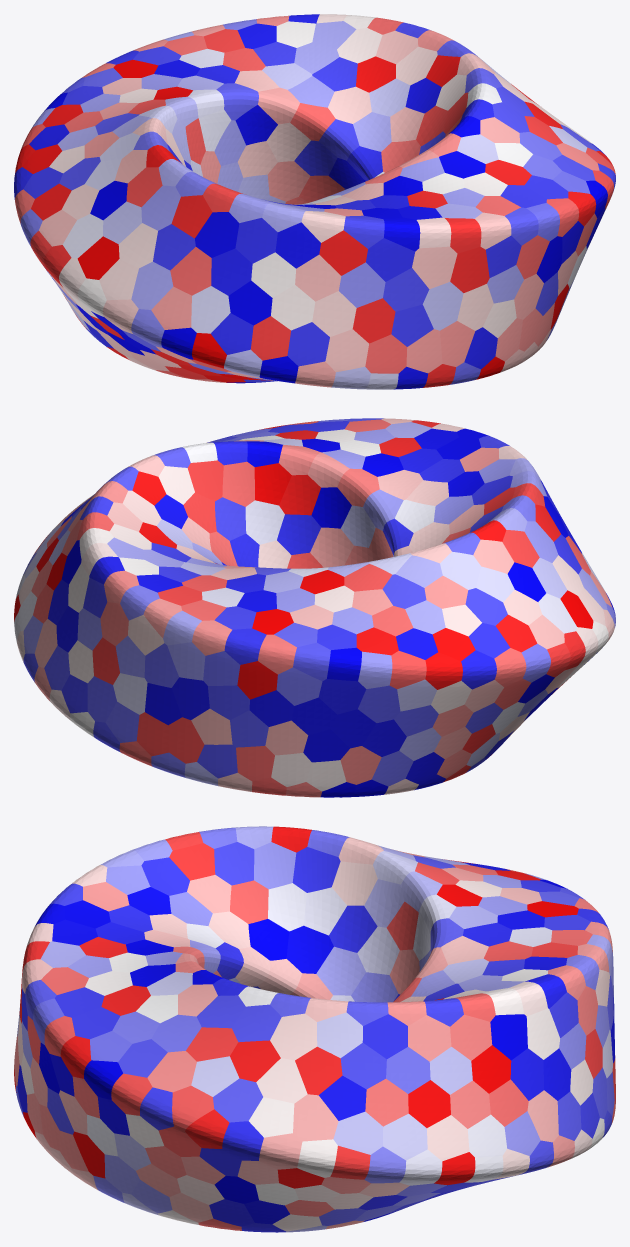
Rendered from Ours_600_mobius1_Iter43_RVD.obj.
The picture shows the model from 3 angles, top to bottom: view 1: azimuth 30°, elevation 25°; view 2: azimuth 150°, elevation 25°; view 3: azimuth 270°, elevation 25°; orthographic projection. The views are drawn at different scales.
Parts seen in each view (by area): view 1: 3D_Object; view 2: 3D_Object; view 3: 3D_Object.
Boxes of the visible parts, x1,y1,x2,y2 form: 3D_Object: (14,14,615,389); 3D_Object: (14,418,615,797); 3D_Object: (14,826,615,1232).
Size of the model in its own units: 6.8 by 2.63 by 6.26.
Materials: 1 (1 with a texture image).
